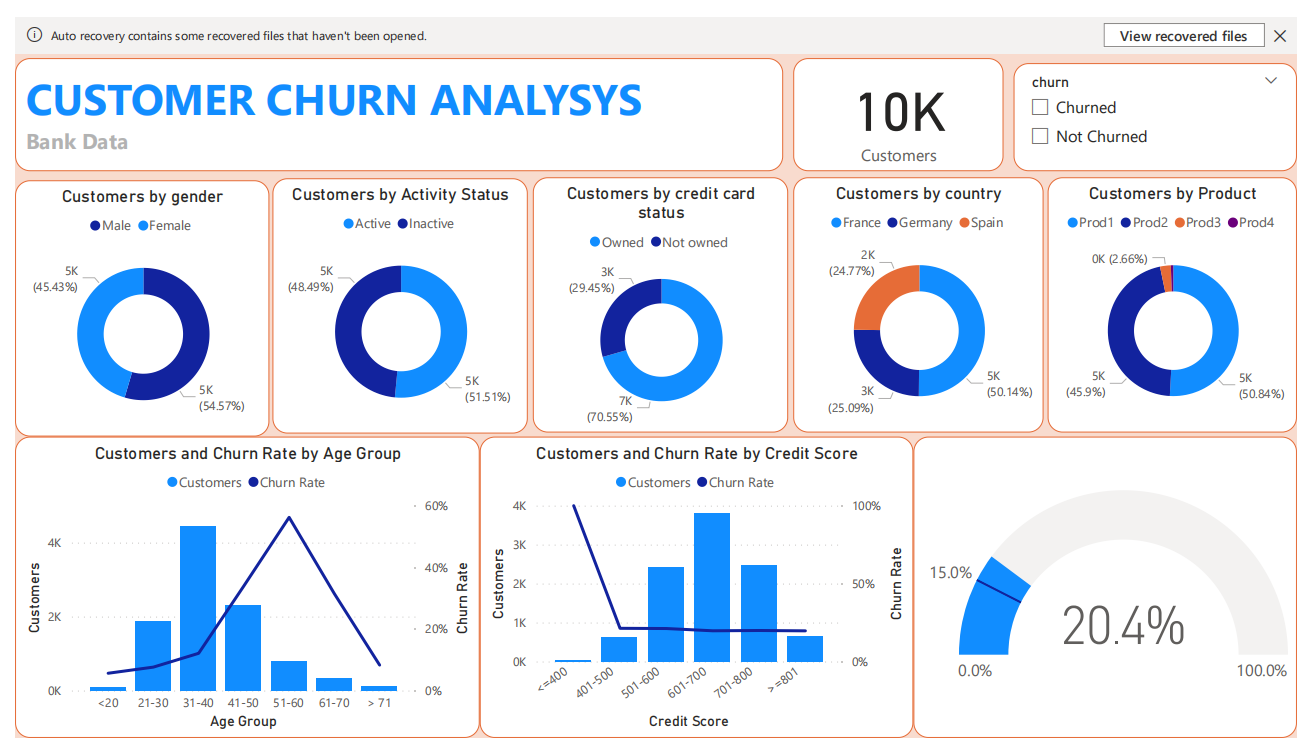

Layout of this report page (visuals, bound fields, positions):
{"tool":"powerbi","page":{"name":"Customer Churn","canvas":[1280,720],"ordinal":0},"visuals":[{"type":"card","fields":{"Values":["Customer data.Customers"]},"box":[777.1,41.4,210,112.9],"z":1000},{"type":"donutChart","fields":{"Category":["Customer data.gender"],"Y":["Customer data.Customers"]},"box":[0,162.9,254.3,255.7],"z":2000},{"type":"donutChart","fields":{"Y":["Customer data.Customers"],"Category":["Customer data.Activity Status"]},"box":[257.1,161.4,255,255],"z":3000},{"type":"donutChart","fields":{"Y":["Customer data.Customers"],"Category":["Customer data.credit card status"]},"box":[517.1,160,255,255],"z":4000},{"type":"donutChart","fields":{"Y":["Customer data.Customers"],"Category":["Customer data.Product"]},"box":[1031.4,160,249,255],"z":5000},{"type":"donutChart","fields":{"Y":["Customer data.Customers"],"Category":["Customer data.country"]},"box":[777.1,160,250,255],"z":6000},{"type":"lineClusteredColumnComboChart","fields":{"Category":["Age groups.Age Group"],"Y":["Customer data.Customers"],"Y2":["Customer data.Churn Rate"]},"box":[0,418.6,464.3,301.4],"z":7000},{"type":"lineClusteredColumnComboChart","fields":{"Y":["Customer data.Customers"],"Y2":["Customer data.Churn Rate"],"Category":["Credit scores groups.Credit Score"]},"box":[463.8,418.5,433.6,301.9],"z":8000},{"type":"gauge","fields":{"Y":["Customer data.Churn Rate"],"MinValue":["Min(Customer data.Min churn Rate)"],"MaxValue":["Max(Customer data.Max Churn Rate)"],"TargetValue":["Max(Customer data.Target Churn Rate)"]},"box":[897.4,418.5,382.8,301.9],"z":9000},{"type":"textbox","box":[0,41.4,767.1,112.9],"z":9003},{"type":"slicer","fields":{"Values":["Customer data.churn"]},"box":[997.1,45.7,282.9,108.6],"z":9004}]}

Visuals, with their boxes on the page's 1280x720 design canvas (x1, y1, x2, y2). These are canvas units, not pixel positions in the 1312x751 screenshot, which may show the page scaled, cropped or inside an application window:
card - Customer data.Customers: crop(777, 41, 987, 154)
donutChart - Customer data.gender x Customer data.Customers: crop(0, 163, 254, 419)
donutChart - Customer data.Customers x Customer data.Activity Status: crop(257, 161, 512, 416)
donutChart - Customer data.Customers x Customer data.credit card status: crop(517, 160, 772, 415)
donutChart - Customer data.Customers x Customer data.Product: crop(1031, 160, 1280, 415)
donutChart - Customer data.Customers x Customer data.country: crop(777, 160, 1027, 415)
lineClusteredColumnComboChart - Age groups.Age Group x Customer data.Customers: crop(0, 419, 464, 720)
lineClusteredColumnComboChart - Customer data.Customers x Customer data.Churn Rate: crop(464, 418, 897, 720)
gauge - Customer data.Churn Rate x Min(Customer data.Min churn Rate): crop(897, 418, 1280, 720)
textbox: crop(0, 41, 767, 154)
slicer - Customer data.churn: crop(997, 46, 1280, 154)
